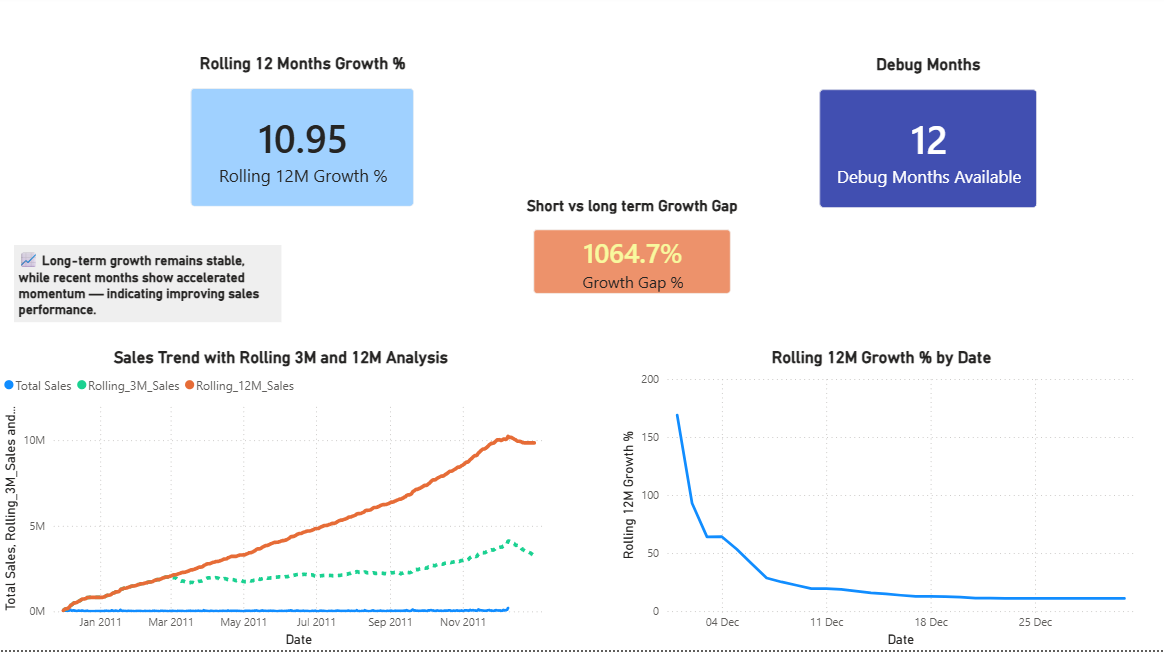

Layout of this report page (visuals, bound fields, positions):
{"tool":"powerbi","page":{"name":"Page 3","canvas":[1280,720],"ordinal":2},"visuals":[{"type":"lineChart","title":"Sales Trend with Rolling 3M and 12M Analysis","fields":{"Category":["Calender.Date"],"Y":["Online Retail.Total Sales","Online Retail.Rolling_3M_Sales","Online Retail.Rolling_12M_Sales"]},"box":[0,387,618.9,333.4],"z":0},{"type":"cardVisual","title":"Debug Months","fields":{"Data":["Online Retail.Debug Months Available"]},"box":[883.7,65.9,273.1,185.2],"z":1000},{"type":"lineChart","fields":{"Category":["Calender.Date"],"Y":["Online Retail.Rolling 12M Growth %"]},"box":[677.9,387,581.8,333.4],"z":2000},{"type":"cardVisual","title":"Rolling 12 Months Growth %","fields":{"Data":["Online Retail.Rolling 12M Growth %"]},"box":[193.5,64.5,279.9,185.2],"z":3000},{"type":"cardVisual","title":"Short vs long term Growth Gap","fields":{"Data":["Online Retail.Growth Gap %"]},"box":[569.5,220.9,251.1,124.9],"z":4000},{"type":"textbox","box":[16.5,274.4,293.7,85.1],"z":5000}]}

Visuals, with their boxes in screenshot pixels (x1, y1, x2, y2), scaled from the page's 1280x720 canvas onto the 1164x656 screenshot:
"Sales Trend with Rolling 3M and 12M Analysis" lineChart: locate(0, 353, 563, 655)
"Debug Months" cardVisual: locate(804, 60, 1052, 229)
lineChart - Calender.Date x Online Retail.Rolling 12M Growth %: locate(616, 353, 1146, 655)
"Rolling 12 Months Growth %" cardVisual: locate(176, 59, 430, 228)
"Short vs long term Growth Gap" cardVisual: locate(518, 201, 746, 315)
textbox: locate(15, 250, 282, 328)
